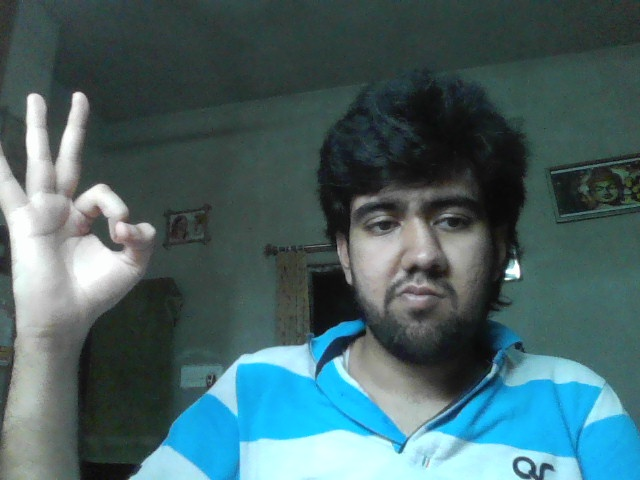Nice: (1, 92, 157, 325)
